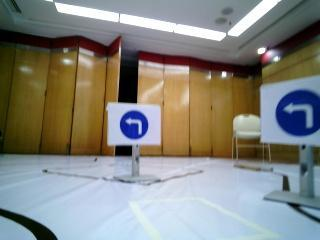left: (260, 83, 320, 136), (109, 104, 154, 141)
